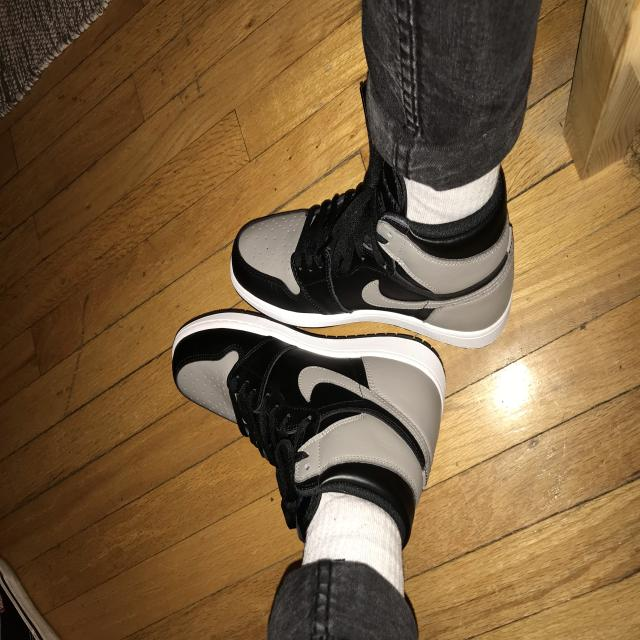shoes: (168, 315, 452, 506), (230, 168, 518, 340)
